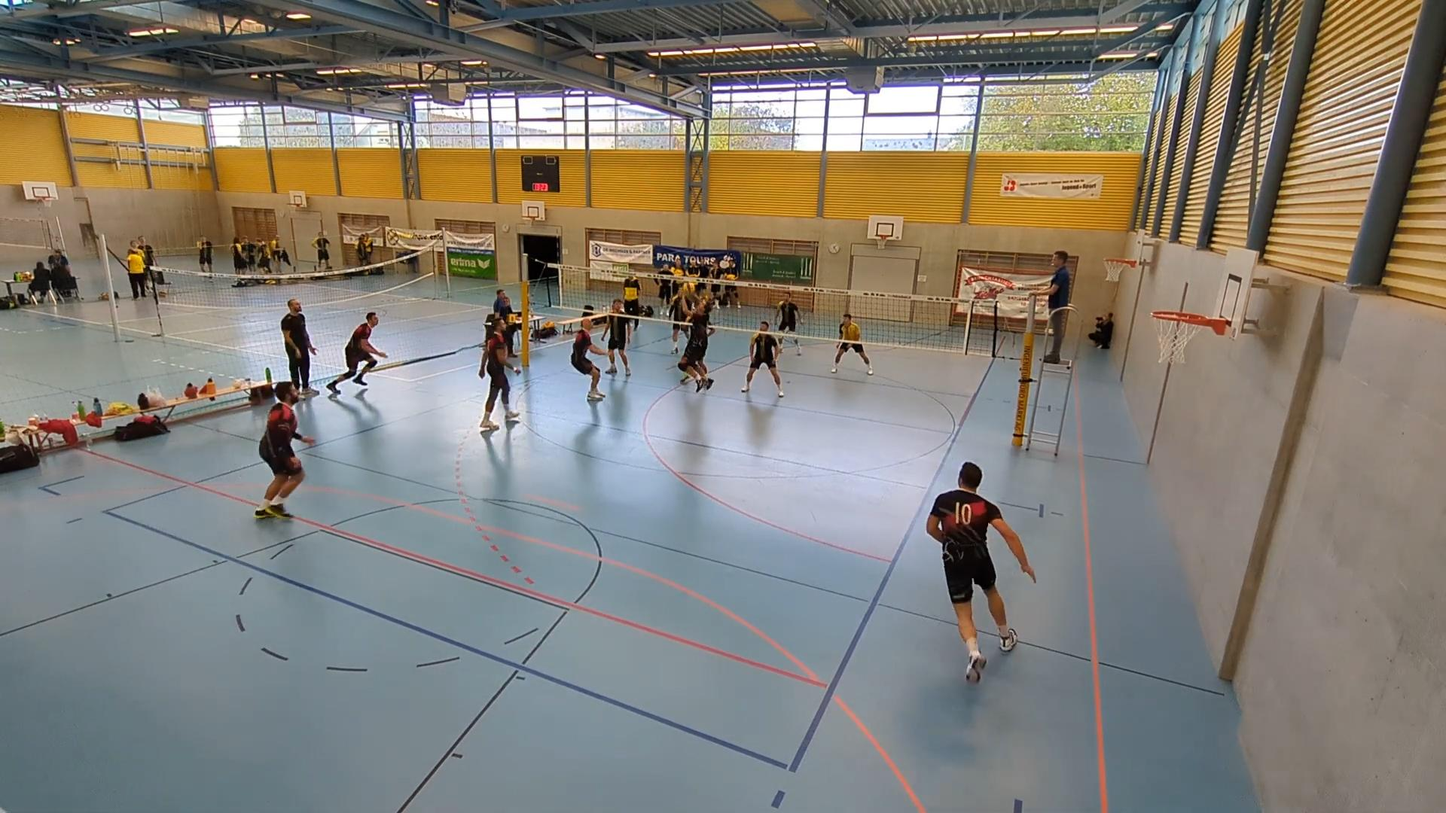Player: (926, 462, 1035, 682), (255, 382, 314, 518), (326, 312, 386, 396), (479, 319, 520, 432), (280, 298, 317, 396), (571, 306, 606, 400), (741, 321, 783, 397), (831, 313, 873, 375), (603, 300, 633, 376), (668, 282, 690, 354), (777, 292, 801, 355)
Set: (672, 287, 722, 395)
ball: (723, 273, 738, 281)
